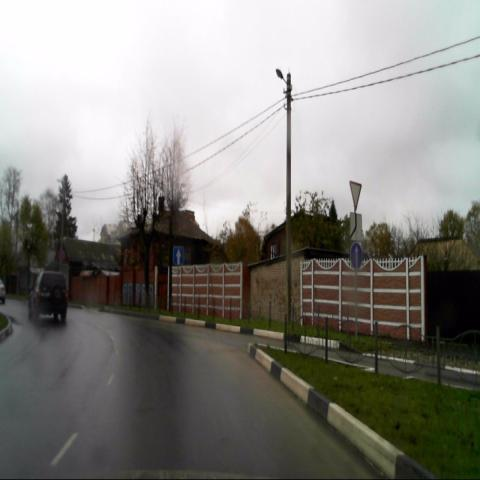2_4: (349, 180, 362, 211)
